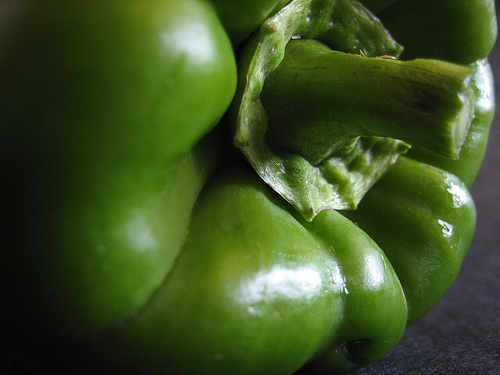capsicum: (2, 0, 491, 368)
